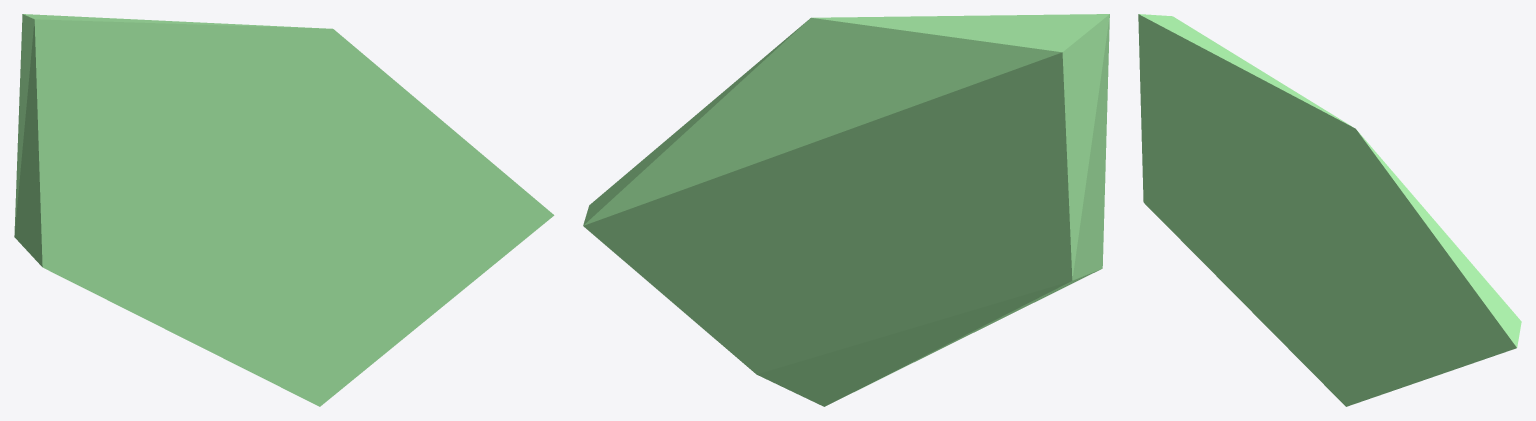
File: xarm7_with_gripper_LR4_R560_link2_respondable_coll_25.dae
3 renders of one model, left to right at view 1: azimuth 30°, elevation 25°; view 2: azimuth 150°, elevation 25°; view 3: azimuth 330°, elevation 25°, orthographic. The views are drawn at different scales.
Parts seen in each view (by area): view 1: Node_000001B89B5E4490; view 2: Node_000001B89B5E4490; view 3: Node_000001B89B5E4490.
Part boxes in pixels (box(x1,y1,x2,y2)): Node_000001B89B5E4490: box(14, 14, 554, 406); Node_000001B89B5E4490: box(583, 14, 1109, 406); Node_000001B89B5E4490: box(1138, 14, 1521, 406).
Bounding box in the file's own units: 0.0691 × 0.0584 × 0.00838.
